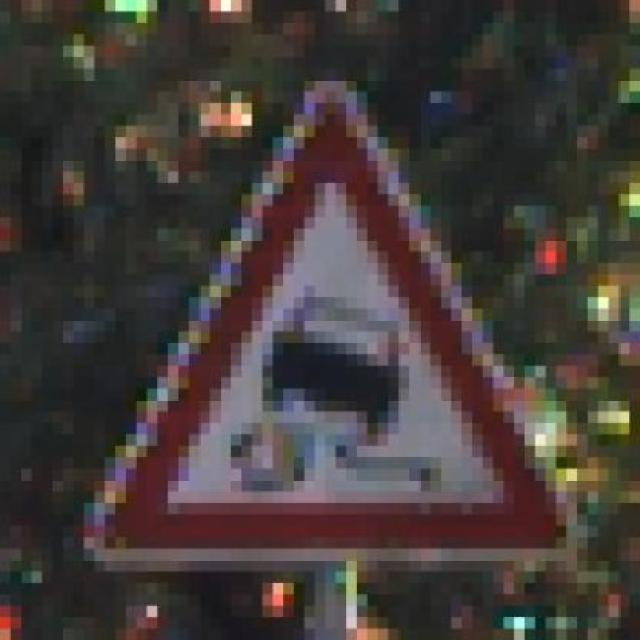Slippery Road Ahead: (59, 79, 583, 558)
